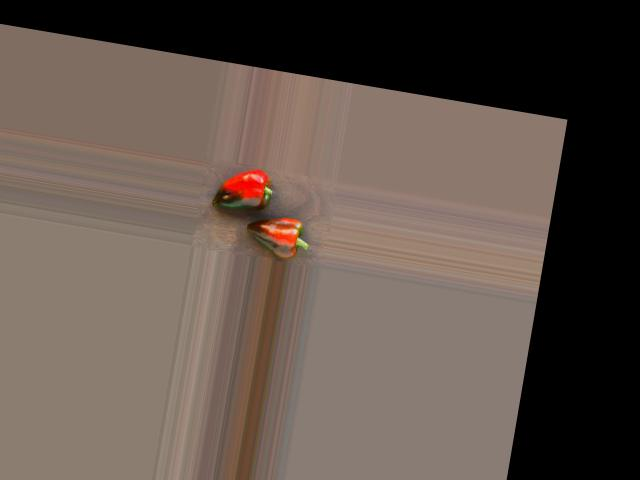bell_pepper: (207, 160, 296, 221)
